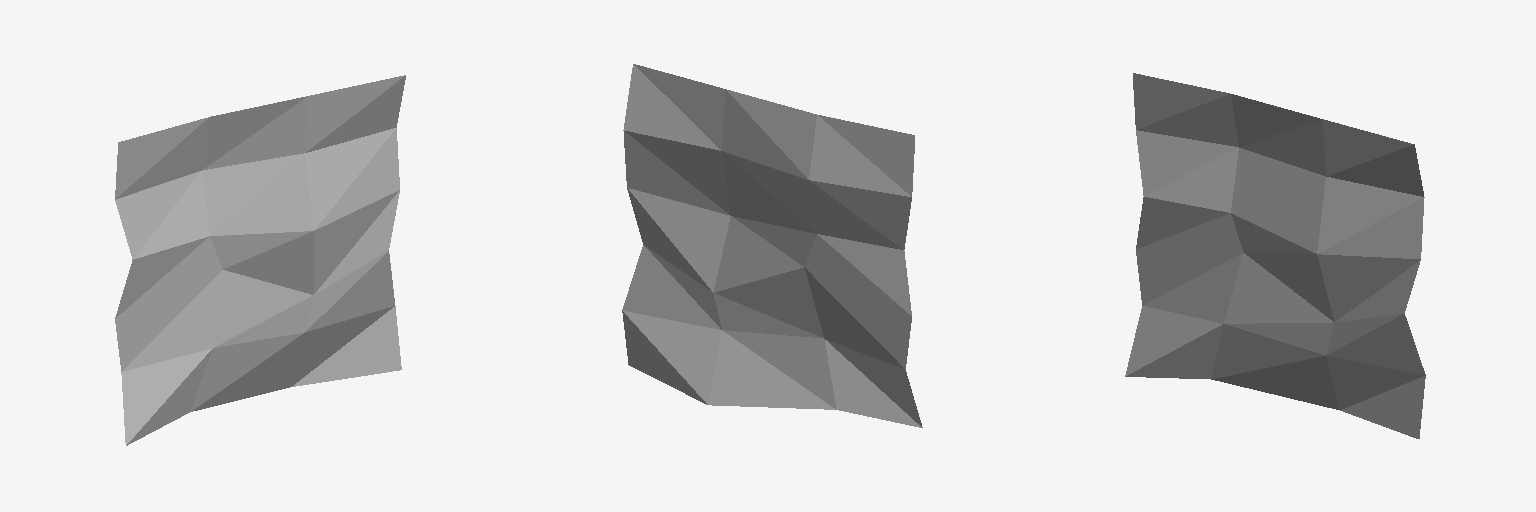
The model's file is Lolipop_Wrapper.obj.
3 renders of one model, left to right at view 1: azimuth 30°, elevation 25°; view 2: azimuth 150°, elevation 25°; view 3: azimuth 330°, elevation 25°, orthographic.
Visible parts, largest first — view 1: Lolipop_Wrapper; view 2: Lolipop_Wrapper; view 3: Lolipop_Wrapper.
Part boxes in pixels (bbox=[...]): Lolipop_Wrapper: bbox=[115, 75, 405, 445]; Lolipop_Wrapper: bbox=[622, 64, 922, 427]; Lolipop_Wrapper: bbox=[1125, 73, 1425, 438].
Size of the model in its own units: 4.22 by 4.3 by 0.6318.